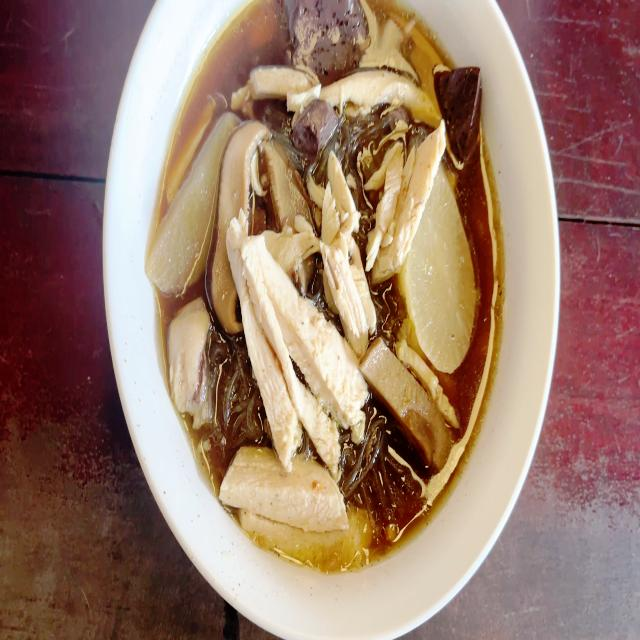boiled_chicken_blood_jelly: (290, 0, 366, 74), (434, 56, 483, 158), (300, 100, 336, 152)
chicken_shredded: (222, 208, 358, 451), (372, 126, 444, 264), (221, 443, 340, 526), (327, 155, 368, 343), (168, 298, 225, 419), (329, 66, 434, 115), (247, 65, 313, 109)
daikon_radish: (151, 108, 224, 293), (418, 187, 469, 358)
noodle: (150, 0, 492, 571)
